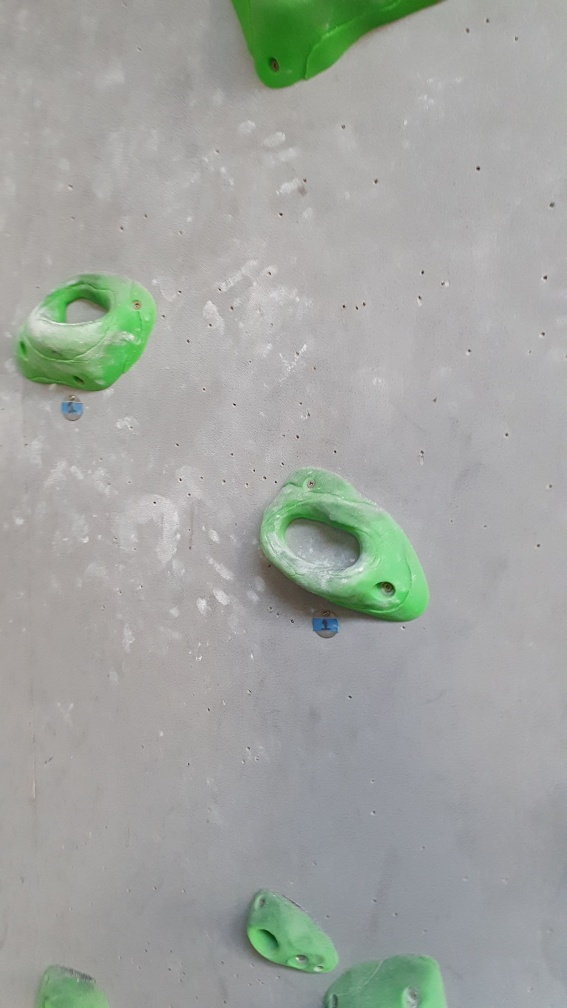Hand Start: (310, 605, 343, 643), (57, 392, 85, 422)
Pocket: (258, 461, 436, 628), (16, 263, 158, 394)
